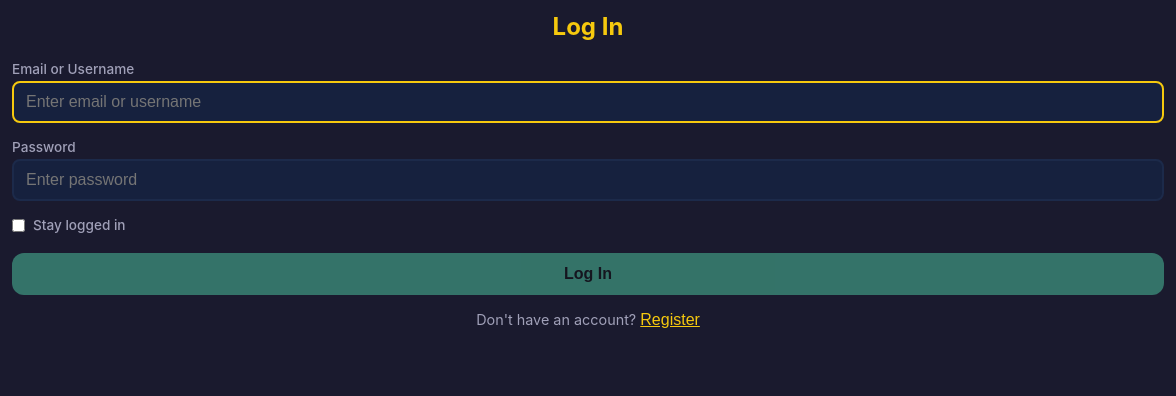
Test: LoginForm › displays error on login failure
Type "testuser" into the field labelled "Email or Username". click: (588, 102)
box: x1=12 y1=81 x2=1164 y2=123
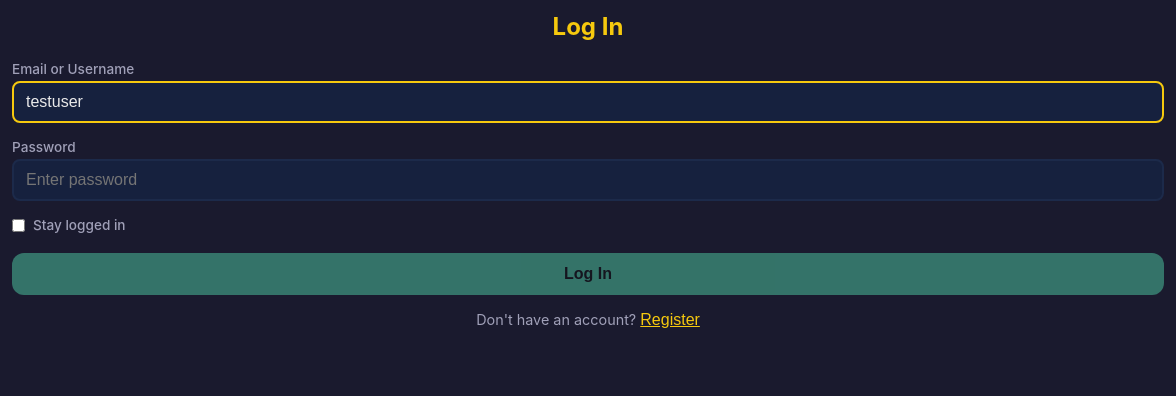
Type "wrongpass12" into the password field labelled "Password". click: (588, 180)
box: x1=12 y1=159 x2=1164 y2=201
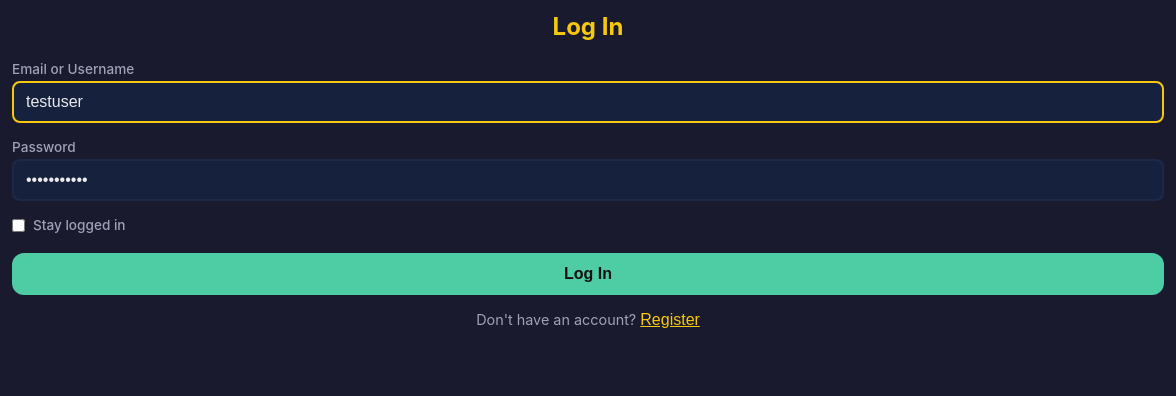
Submit the form labelled "Email or Username"
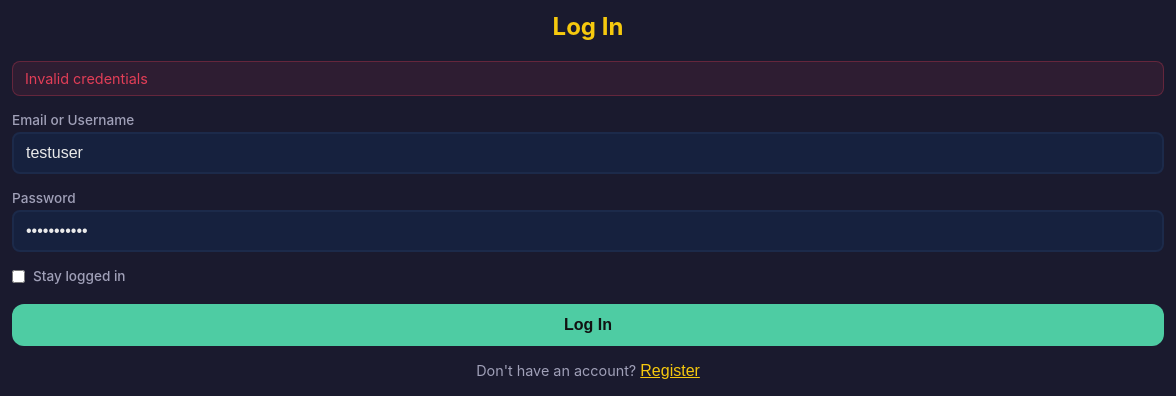
Result: the text "Invalid credentials" is shown at x1=12 y1=61 x2=1164 y2=96
